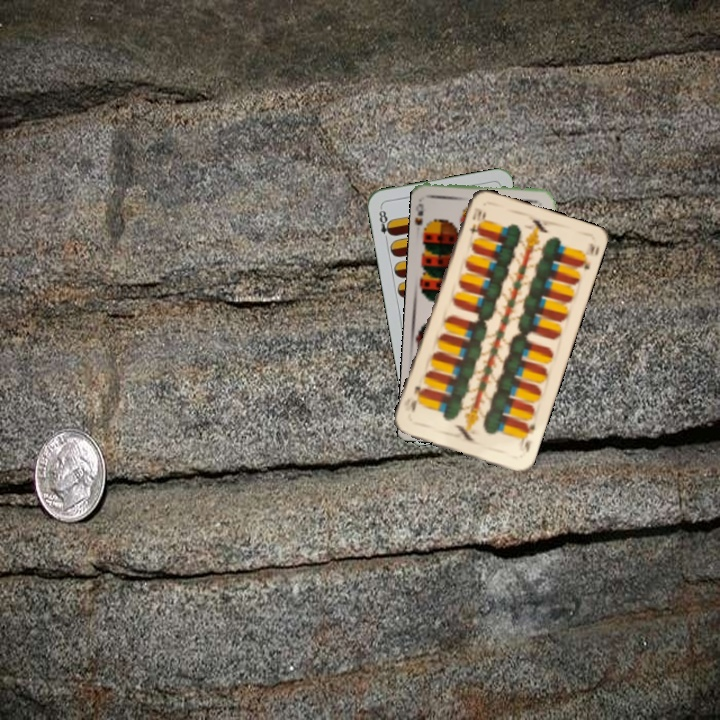E10: (516, 419, 538, 455), (465, 204, 484, 237)
E8: (375, 203, 395, 244)
S9: (414, 200, 432, 237)
